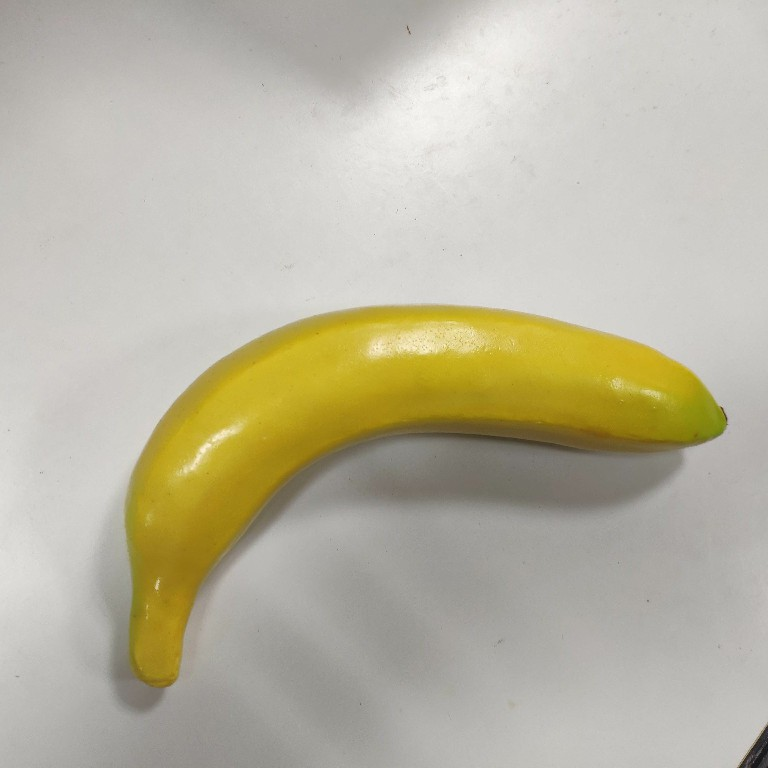fruit_banana: (110, 292, 738, 706)
